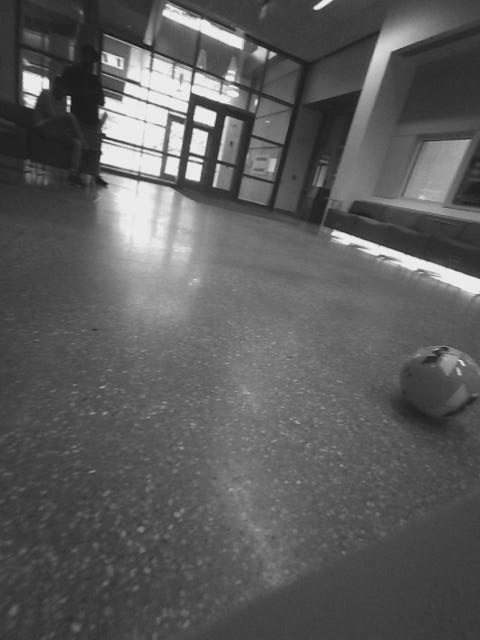ball: (204, 204, 226, 227)
